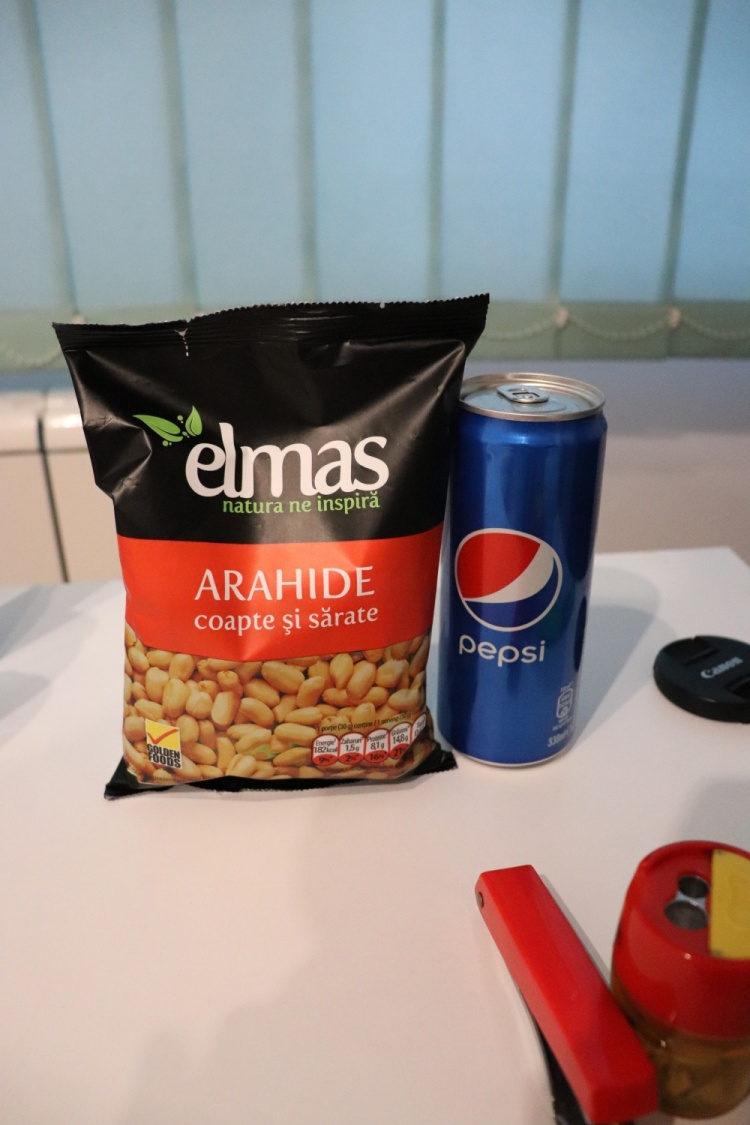peanuts: (54, 296, 448, 805)
pepsi: (444, 361, 611, 768)
